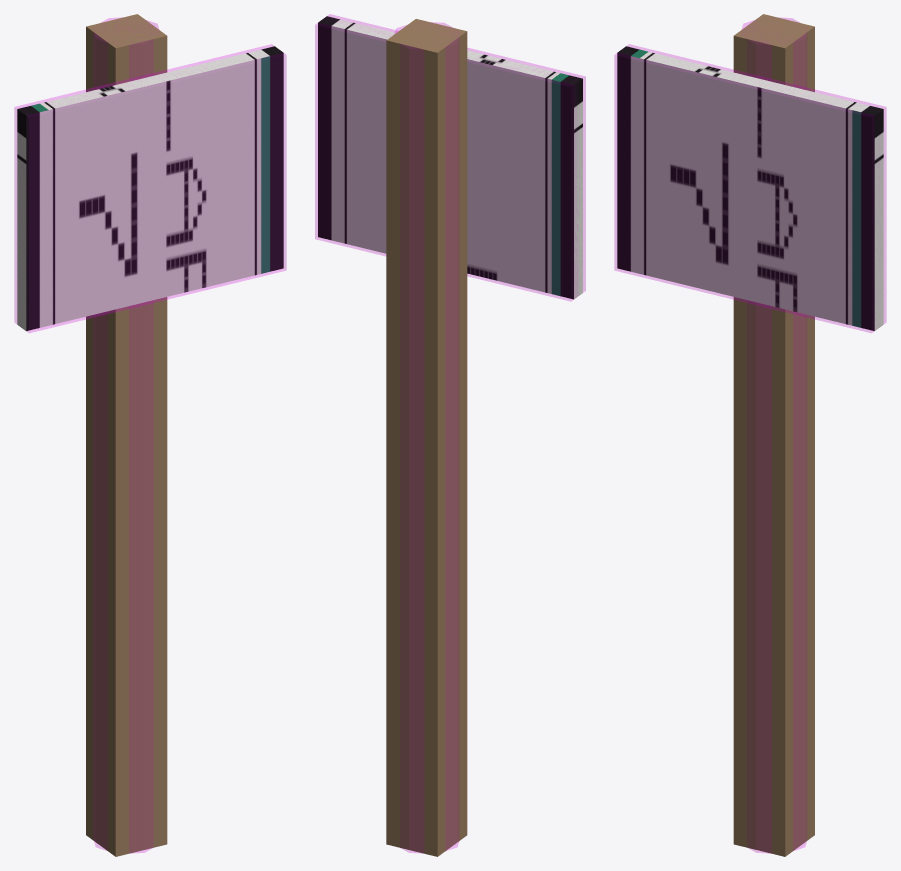
Rendered from lapsign_07.dae.
3 renders of one model, left to right at view 1: azimuth 30°, elevation 25°; view 2: azimuth 150°, elevation 25°; view 3: azimuth 330°, elevation 25°, orthographic.
Parts seen in each view (by area): view 1: sign, Colmesh_sign-1, post, Colmesh_post-1; view 2: post, sign, Colmesh_sign-1, Colmesh_post-1; view 3: sign, Colmesh_sign-1, post, Colmesh_post-1.
Part boxes in pixels (x1,y1,x2,y2): sign: [17, 46, 283, 331]; Colmesh_sign-1: [14, 44, 286, 332]; post: [86, 14, 167, 856]; Colmesh_post-1: [94, 17, 158, 853]; post: [386, 19, 467, 856]; sign: [318, 16, 582, 299]; Colmesh_sign-1: [315, 14, 585, 301]; Colmesh_post-1: [394, 22, 458, 853]; sign: [617, 46, 883, 331]; Colmesh_sign-1: [614, 44, 886, 332]; post: [733, 14, 814, 856]; Colmesh_post-1: [742, 17, 806, 853].
Size of the model in its own units: 0.5 by 0.165 by 1.5.
Materials: 3 (1 with a texture image).
